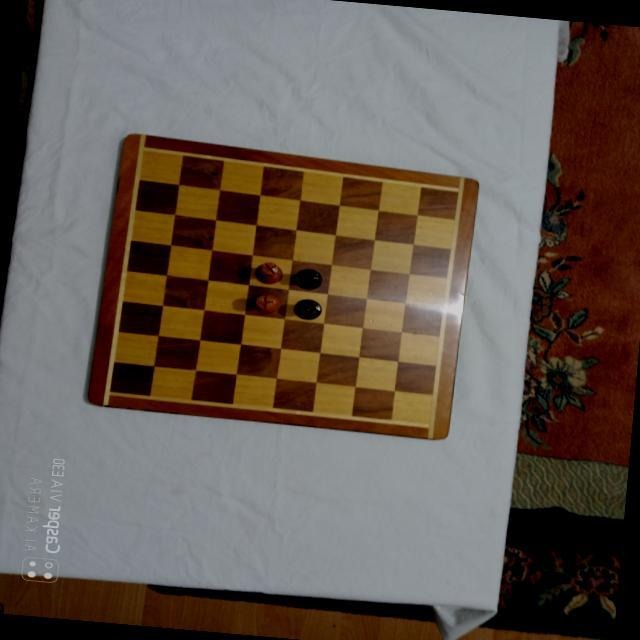black-rook: (291, 266, 322, 290), (291, 297, 321, 320)
white-rook: (250, 290, 282, 314), (252, 261, 283, 285)
